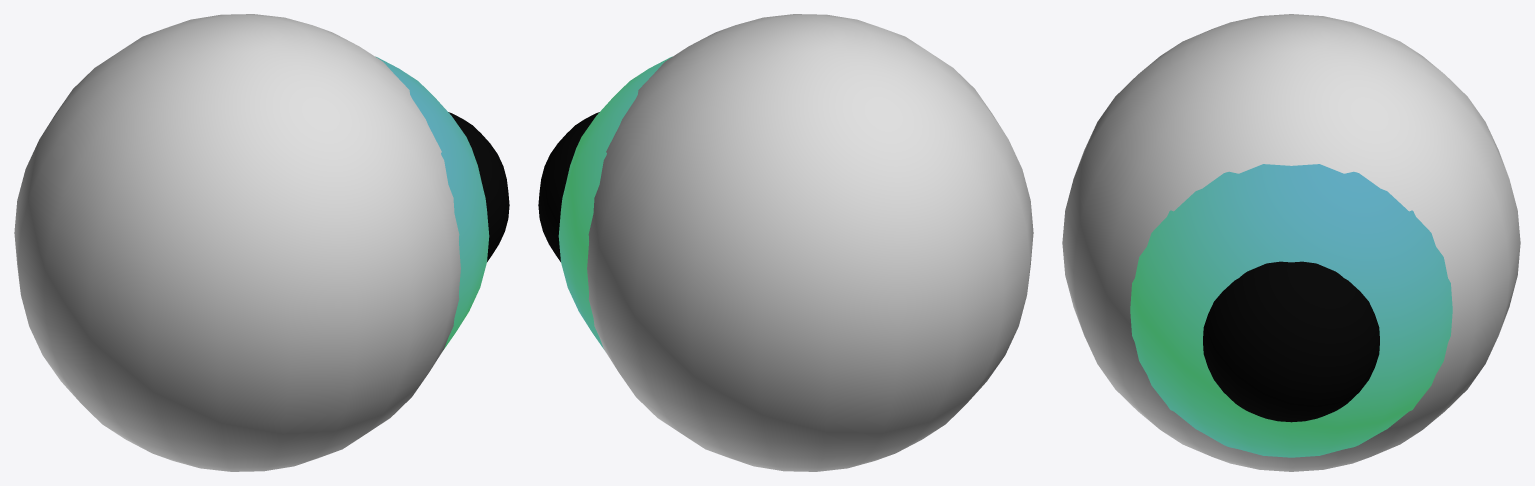
The model's file is Eye ball enemy.fbx.
3 views of the same model, side by side, from view 1: azimuth 30°, elevation 25°; view 2: azimuth 150°, elevation 25°; view 3: azimuth 270°, elevation 25° (orthographic).
Visible parts, largest first — view 1: Eyeball, Eyelids, Eyelids1; view 2: Eyeball, Eyelids, Eyelids1; view 3: Eyeball, Eyelids, Eyelids1.
Boxes of the visible parts, x1=… form: Eyeball: x1=14, y1=14, x2=460, y2=471; Eyelids: x1=375, y1=56, x2=489, y2=348; Eyelids1: x1=448, y1=112, x2=509, y2=261; Eyeball: x1=587, y1=14, x2=1033, y2=471; Eyelids: x1=558, y1=56, x2=672, y2=348; Eyelids1: x1=538, y1=112, x2=599, y2=261; Eyeball: x1=1062, y1=14, x2=1520, y2=471; Eyelids: x1=1130, y1=164, x2=1452, y2=457; Eyelids1: x1=1203, y1=261, x2=1379, y2=422.
Size of the model in its own units: 17.02 by 14.91 by 14.91.
